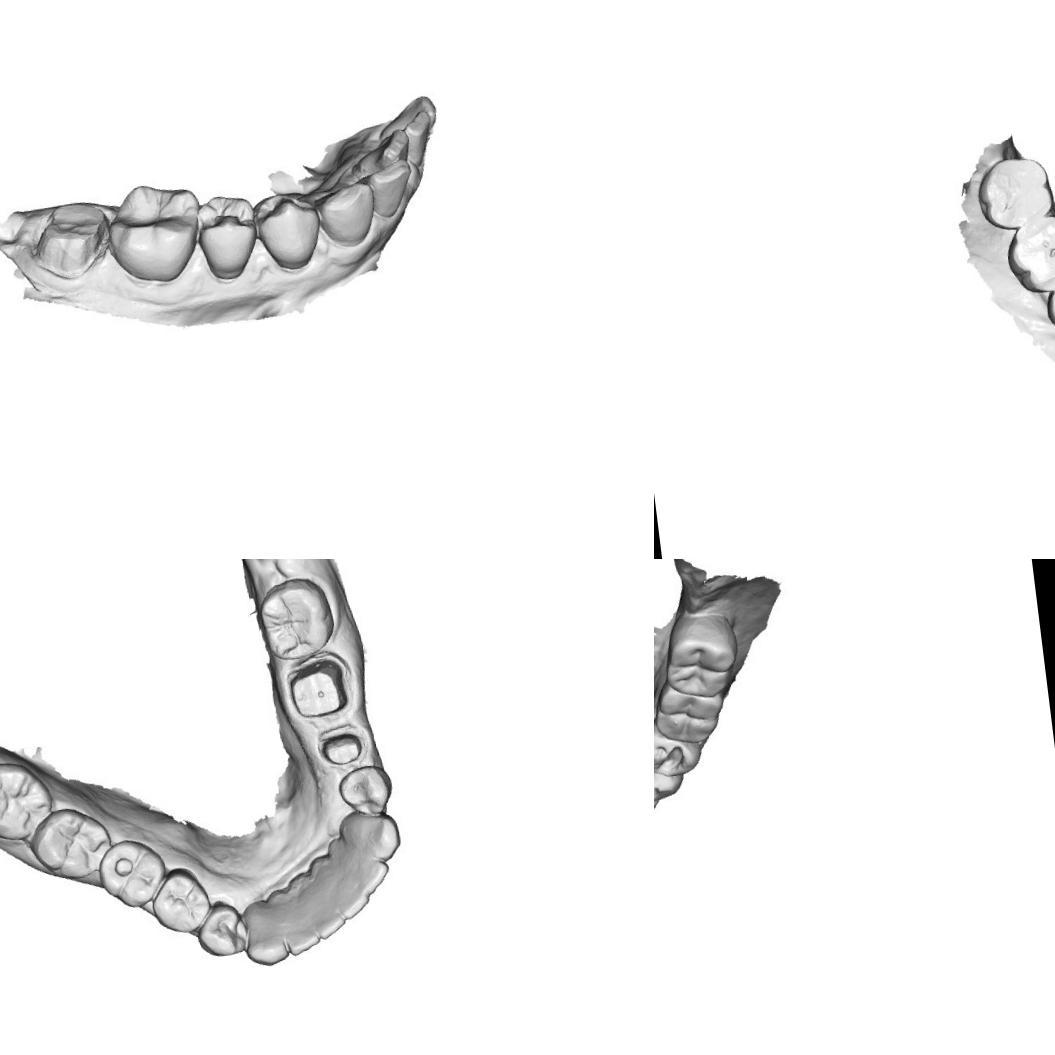canine: (316, 171, 378, 248), (345, 807, 403, 868), (240, 909, 294, 970)
crown: (20, 185, 116, 287), (283, 656, 352, 722), (314, 723, 372, 776)
incisor: (369, 157, 422, 222), (276, 904, 326, 958), (396, 107, 438, 168), (342, 851, 392, 897), (331, 870, 373, 922), (375, 126, 416, 176), (306, 892, 346, 943)
molar: (105, 178, 206, 286), (655, 607, 744, 704), (26, 801, 119, 885), (253, 574, 335, 664), (972, 151, 1055, 234), (94, 834, 172, 912), (0, 756, 59, 846), (654, 675, 725, 747), (1001, 215, 1055, 297)
premolar: (257, 188, 323, 272), (196, 194, 260, 280), (146, 865, 215, 938), (335, 760, 396, 822), (196, 898, 252, 960), (654, 718, 705, 780), (654, 747, 690, 806)
